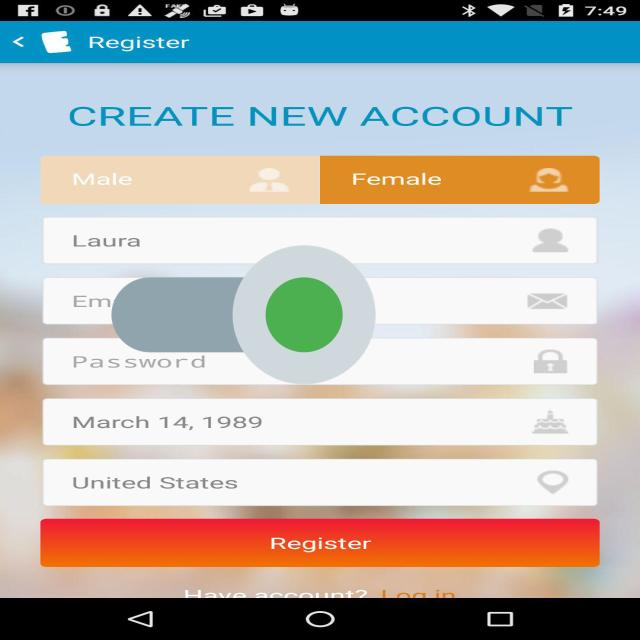social proof: (111, 186, 376, 444)
